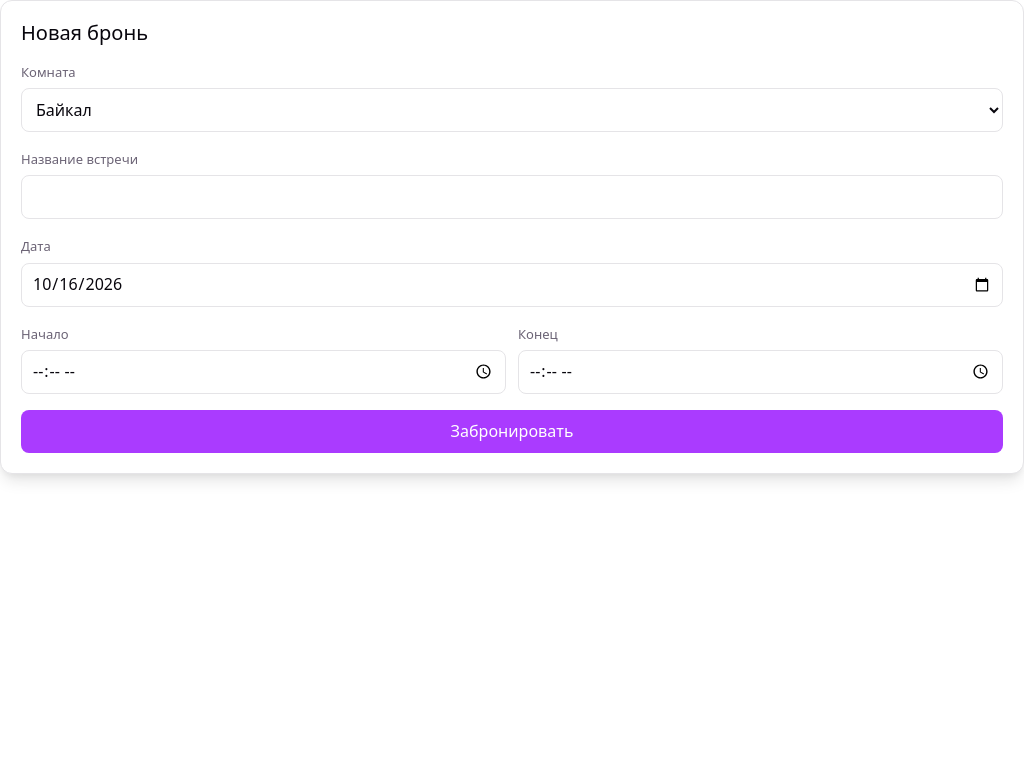
it: BookingForm › показывает ошибку при пересечении с существующей бронью
The width and height of the screenshot is (1024, 768).
Type "Созвон" into the field labelled "Название встречи" at [512, 197], box [21,175,1003,219]
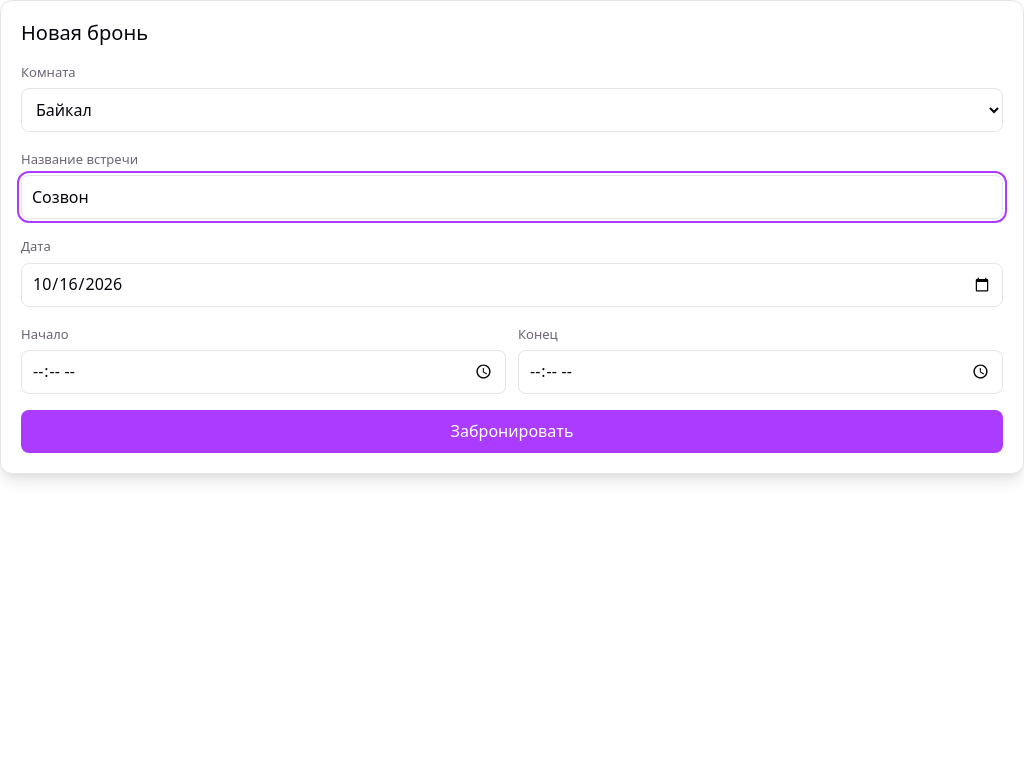
Type "10:30" into the time field labelled "Начало" at [264, 372], box [21,350,506,394]
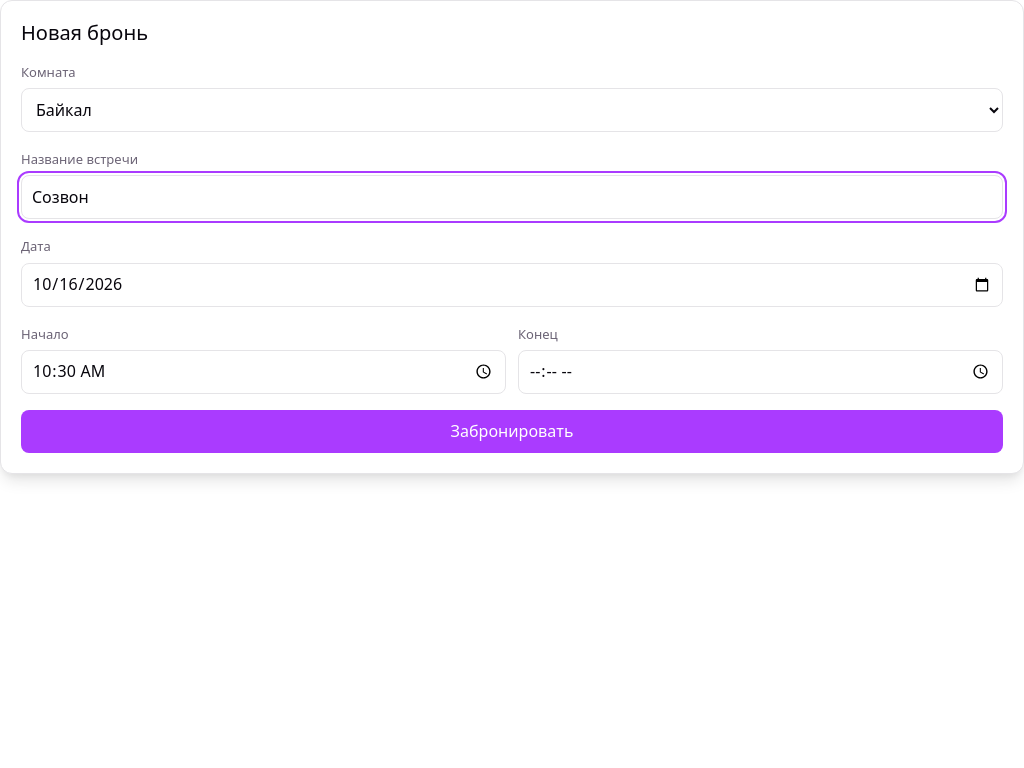
Type "11:30" into the time field labelled "Конец" at [760, 372], box [518,350,1003,394]
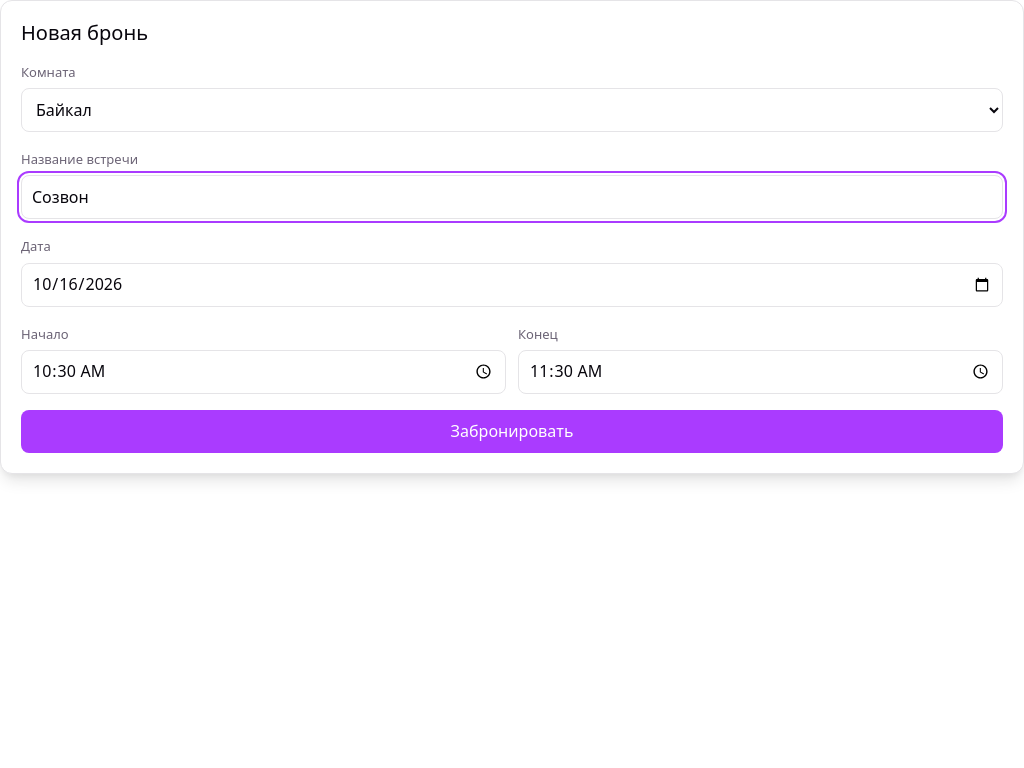
Click the button "Забронировать" at [512, 431], box [21,410,1003,453]
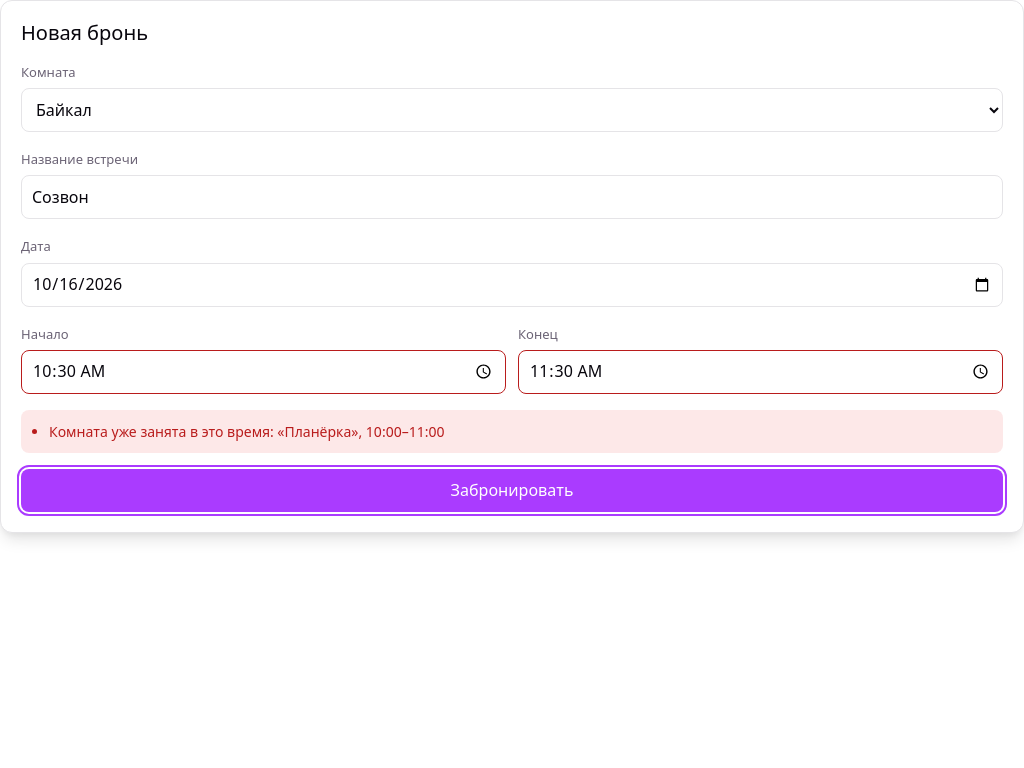
Result: the message shows "Комната уже занята в это время" at [49,422,444,441]
